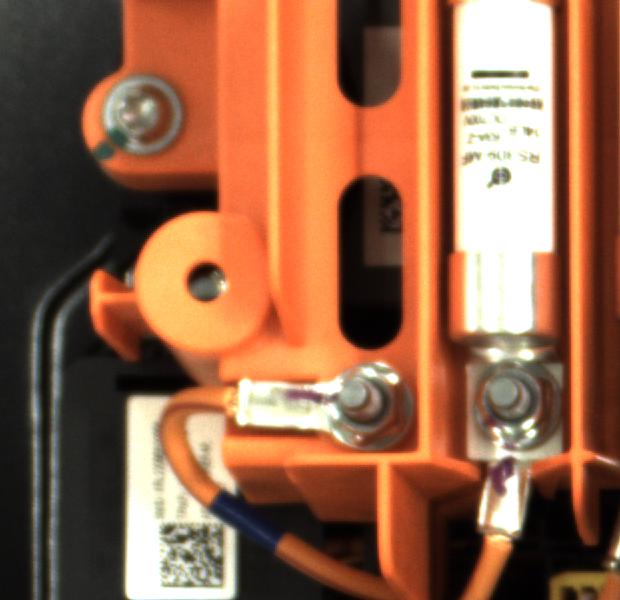screw_m: (87, 62, 201, 170)
screw_s: (463, 361, 559, 446), (326, 360, 411, 446)
